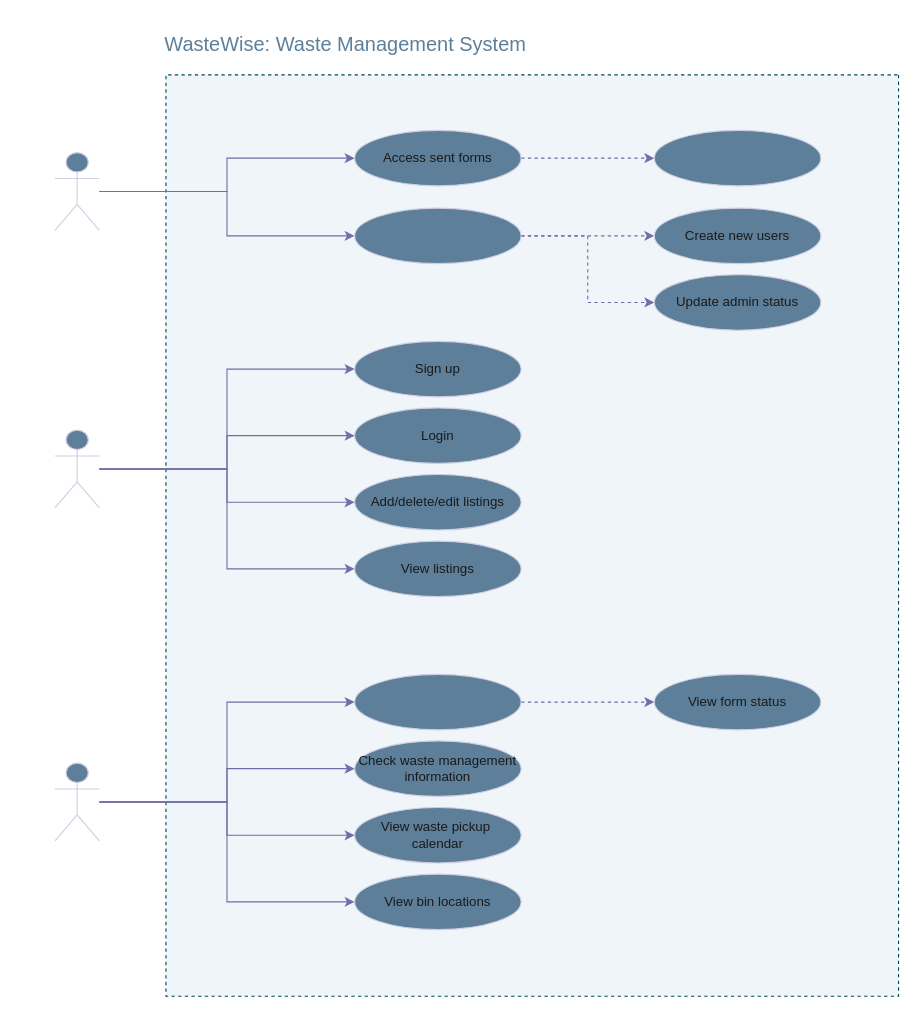
This 918x1016 diagram has some shape labels left out. The centre of each missing label's shape, as x and y in pixels:
Access verification requests: the point at 437,235
Governmental User: the point at 76,191
Private Owner: the point at 76,468
Send form: the point at 437,701
Update form status: the point at 737,157
Visitor: the point at 76,801
